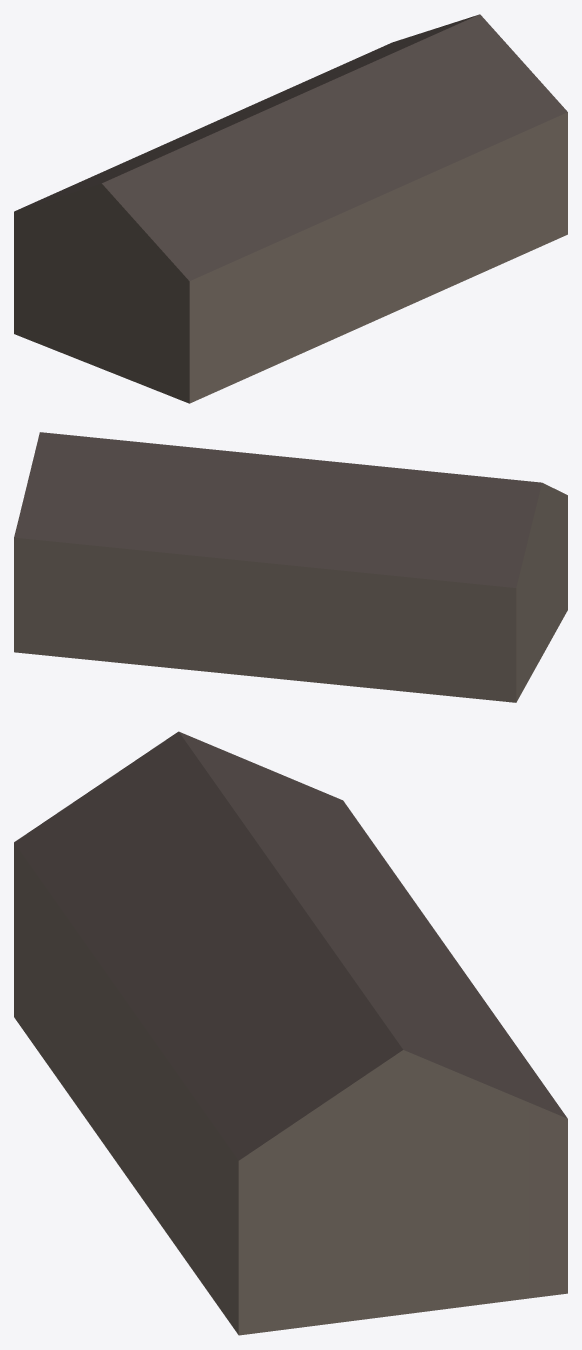
3 renders of one model, top to bottom at view 1: azimuth 30°, elevation 25°; view 2: azimuth 150°, elevation 25°; view 3: azimuth 270°, elevation 25°, orthographic. The views are drawn at different scales.
Visible parts, largest first — view 1: HP-w1376988748; view 2: HP-w1376988748; view 3: HP-w1376988748.
Part boxes in pixels (<box>): HP-w1376988748: <box>14,14,567,403</box>; HP-w1376988748: <box>14,432,567,702</box>; HP-w1376988748: <box>14,731,567,1335</box>.
Size of the model in its own units: 26.54 by 9.09 by 17.24.
